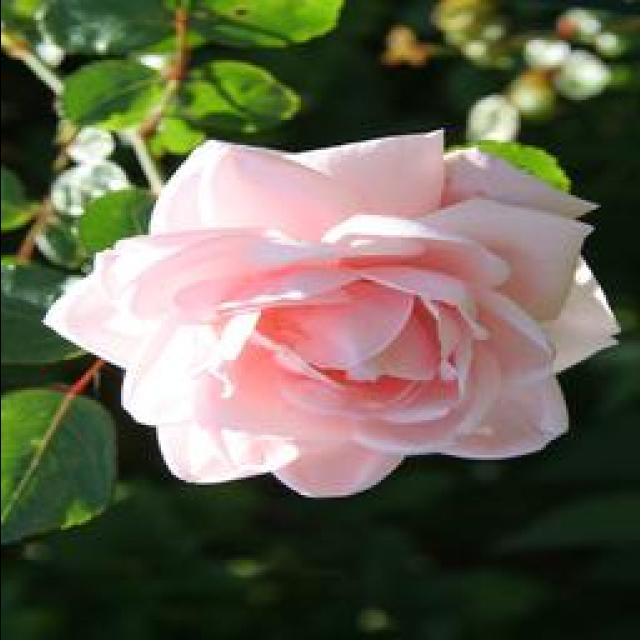rose: (61, 119, 620, 512)
